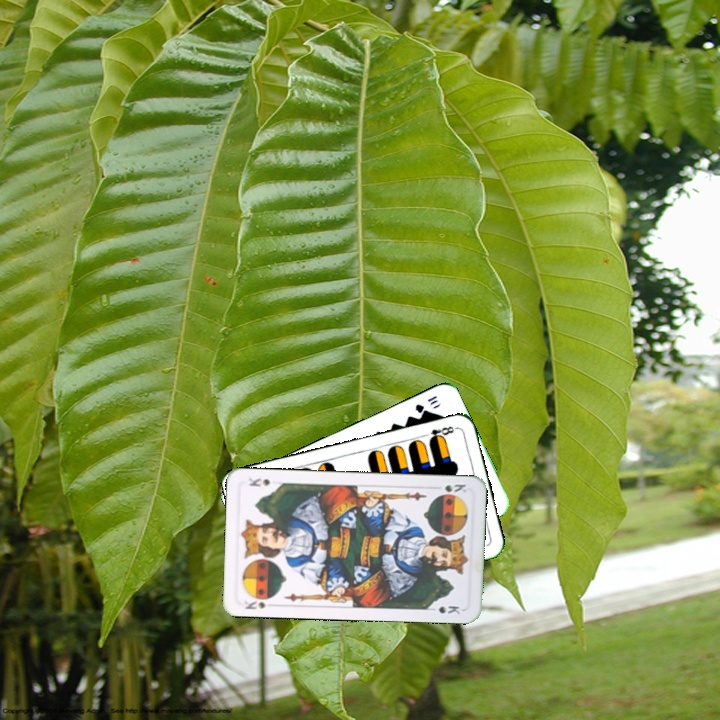E8: (419, 422, 459, 445)
G10: (411, 391, 440, 416)
SK: (240, 592, 277, 612), (436, 480, 470, 498)
